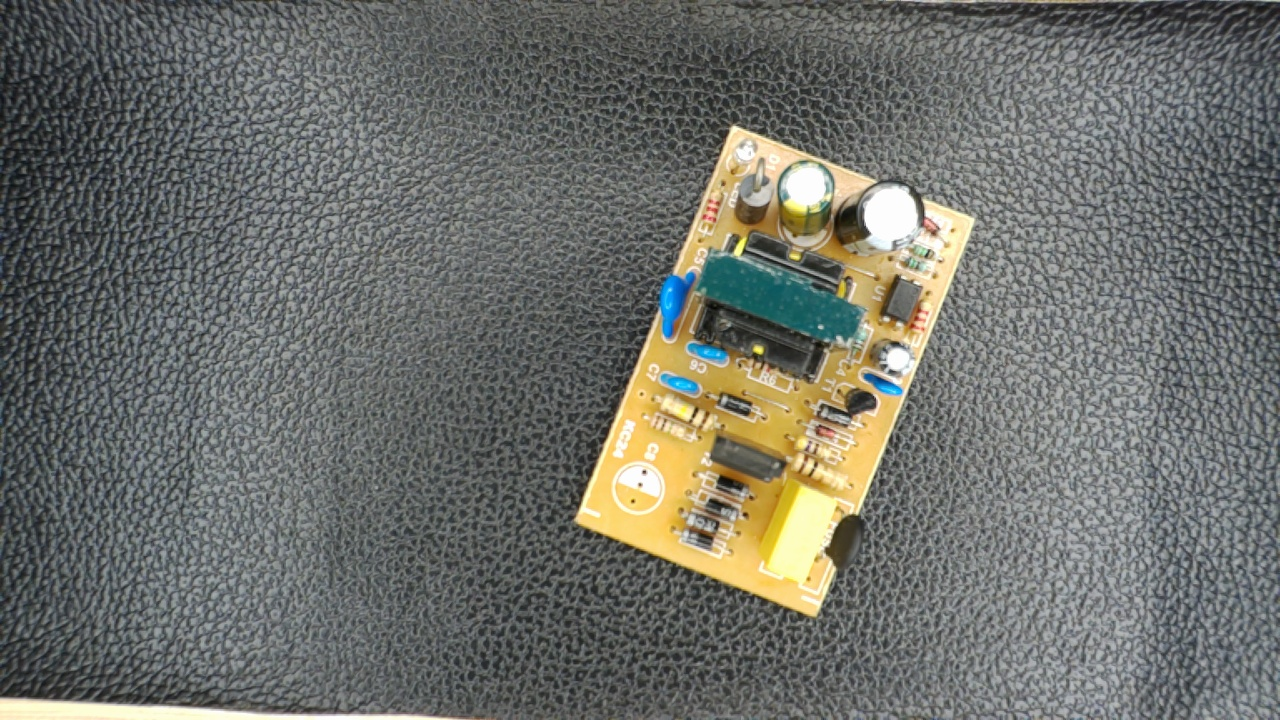fuse: (818, 501, 870, 575)
mov: (654, 266, 699, 347)
optocoupler: (879, 272, 926, 335)
